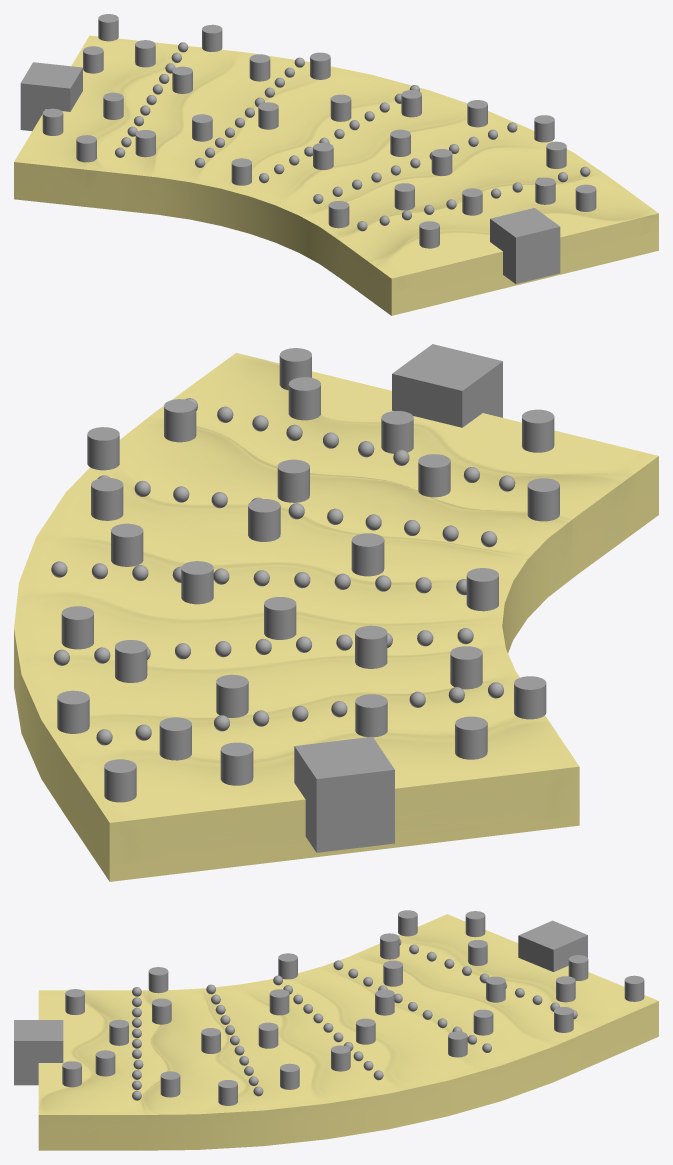
Rendered from assets002_Streckenteil_links001.fbx.
3 views of the same model, one above another, from view 1: azimuth 30°, elevation 25°; view 2: azimuth 150°, elevation 25°; view 3: azimuth 270°, elevation 25° (orthographic). The views are drawn at different scales.
Parts seen in each view (by area): view 1: streckenteil_linkskurve_geo1, a (×12), b (×10), startpoint, endpoint, c (×5), d; view 2: streckenteil_linkskurve_geo1, a (×12), b (×10), endpoint, startpoint, c (×5), d; view 3: streckenteil_linkskurve_geo1, a (×12), b (×10), startpoint, c (×5), endpoint, d.
Part boxes in pixels (left/top/right/bottom): streckenteil_linkskurve_geo1: left=14, top=35, right=658, bottom=315; a (×12): left=103, top=92, right=596, bottom=248; b (×10): left=42, top=24, right=487, bottom=185; startpoint: left=490, top=208, right=560, bottom=283; endpoint: left=20, top=62, right=82, bottom=130; c (×5): left=76, top=14, right=330, bottom=162; d: left=135, top=40, right=155, bottom=67; streckenteil_linkskurve_geo1: left=14, top=353, right=658, bottom=881; a (×12): left=87, top=348, right=559, bottom=737; b (×10): left=57, top=477, right=498, bottom=785; endpoint: left=294, top=736, right=394, bottom=852; startpoint: left=392, top=344, right=502, bottom=427; c (×5): left=61, top=606, right=546, bottom=802; d: left=159, top=717, right=191, bottom=760; streckenteil_linkskurve_geo1: left=38, top=914, right=658, bottom=1150; a (×12): left=62, top=933, right=487, bottom=1105; b (×10): left=258, top=911, right=588, bottom=1089; startpoint: left=14, top=1020, right=63, bottom=1085; c (×5): left=383, top=910, right=644, bottom=1057; endpoint: left=518, top=920, right=587, bottom=971; d: left=556, top=976, right=575, bottom=1002.
Size of the model in its own units: 48.36 by 6.68 by 65.57.
